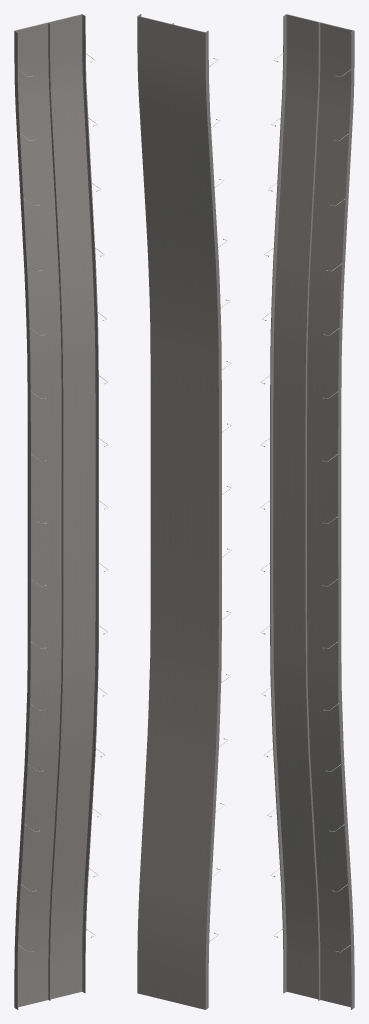
The model's file is bridge.glb.
3 renders of one model, left to right at view 1: azimuth 30°, elevation 25°; view 2: azimuth 150°, elevation 25°; view 3: azimuth 330°, elevation 25°, orthographic.
Size of the model in its own units: 20.26 by 277 by 13.82.
Materials: 4 (1 with a texture image).
